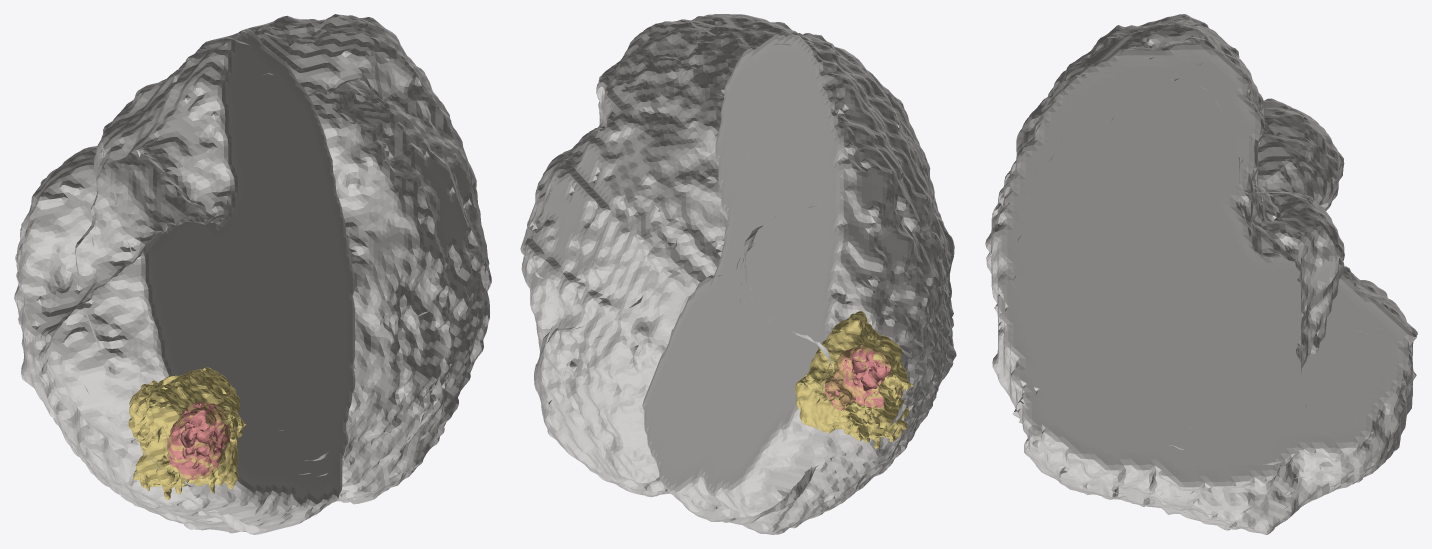
The picture shows the model from 3 angles, left to right: view 1: azimuth 30°, elevation 25°; view 2: azimuth 150°, elevation 25°; view 3: azimuth 270°, elevation 25°; orthographic projection. The views are drawn at different scales.
Parts seen in each view (by area): view 1: brain_left, brain_right, edema, enhancing, core; view 2: brain_left, brain_right, edema, enhancing, core; view 3: brain_right, brain_left.
Part boxes in pixels (<box>): brain_left: <box>14,29,355,534</box>; brain_right: <box>247,14,491,504</box>; edema: <box>128,367,245,499</box>; enhancing: <box>167,402,229,479</box>; core: <box>167,401,228,479</box>; brain_left: <box>642,32,956,534</box>; brain_right: <box>520,14,797,497</box>; edema: <box>795,311,913,448</box>; enhancing: <box>825,348,901,410</box>; core: <box>825,345,902,410</box>; brain_right: <box>985,42,1416,534</box>; brain_left: <box>991,14,1417,423</box>.
Bounding box in the file's own units: 148 × 170 × 140.
